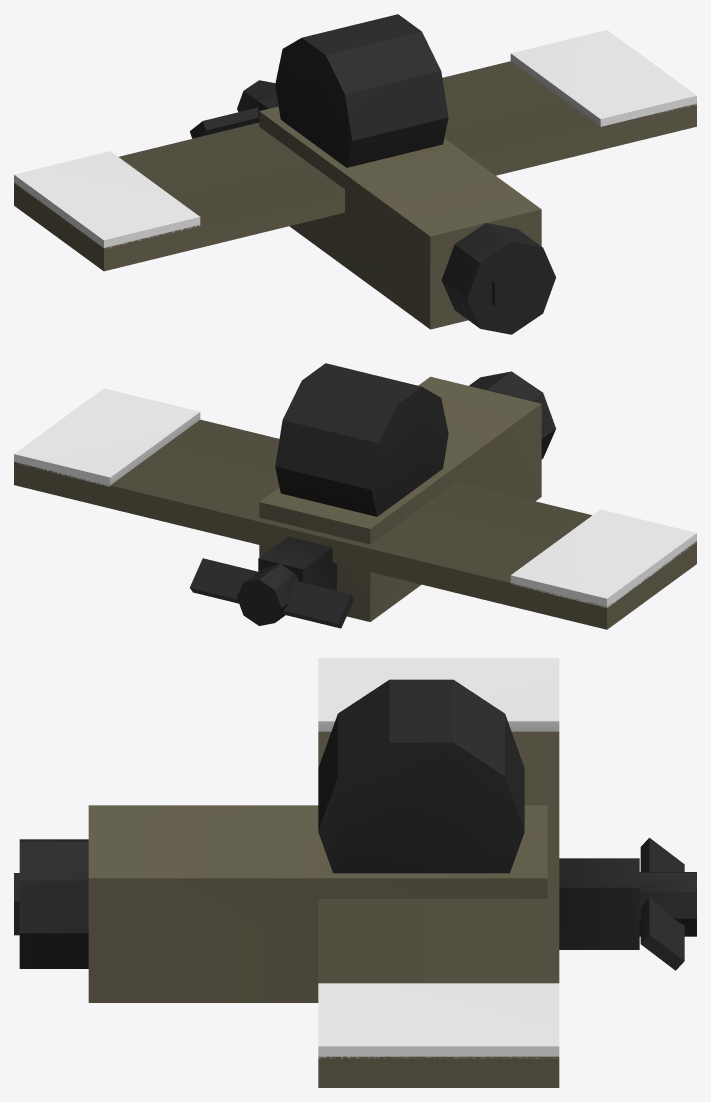
The model's file is ru-molniya.glb.
3 views of the same model, one above another, from view 1: azimuth 30°, elevation 25°; view 2: azimuth 150°, elevation 25°; view 3: azimuth 270°, elevation 25° (orthographic). The views are drawn at different scales.
Visible parts, largest first — view 1: ru-molniya, prop; view 2: ru-molniya, prop; view 3: ru-molniya, prop.
Boxes of the visible parts, x1=… form: ru-molniya: x1=14, y1=14, x2=696, y2=334; prop: x1=190, y1=80, x2=276, y2=138; ru-molniya: x1=14, y1=363, x2=696, y2=629; prop: x1=189, y1=558, x2=354, y2=628; ru-molniya: x1=14, y1=658, x2=639, y2=1087; prop: x1=639, y1=837, x2=696, y2=970.
Bounding box in the file's own units: 0.8 × 0.2456 × 0.595.
